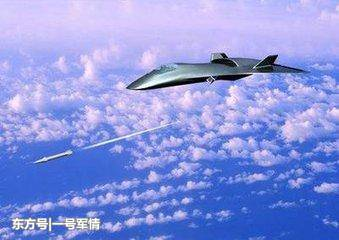airplane: (125, 50, 311, 94)
